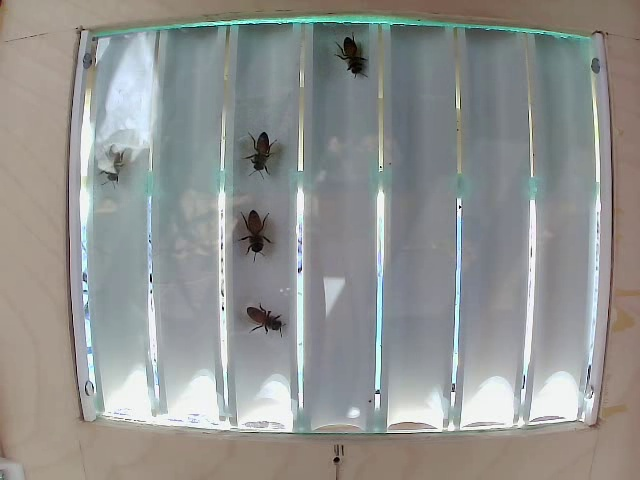bee: (231, 288, 291, 342), (243, 124, 290, 190), (231, 210, 272, 266), (337, 26, 365, 73)
